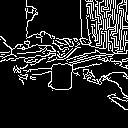cube: (43, 61, 81, 93)
